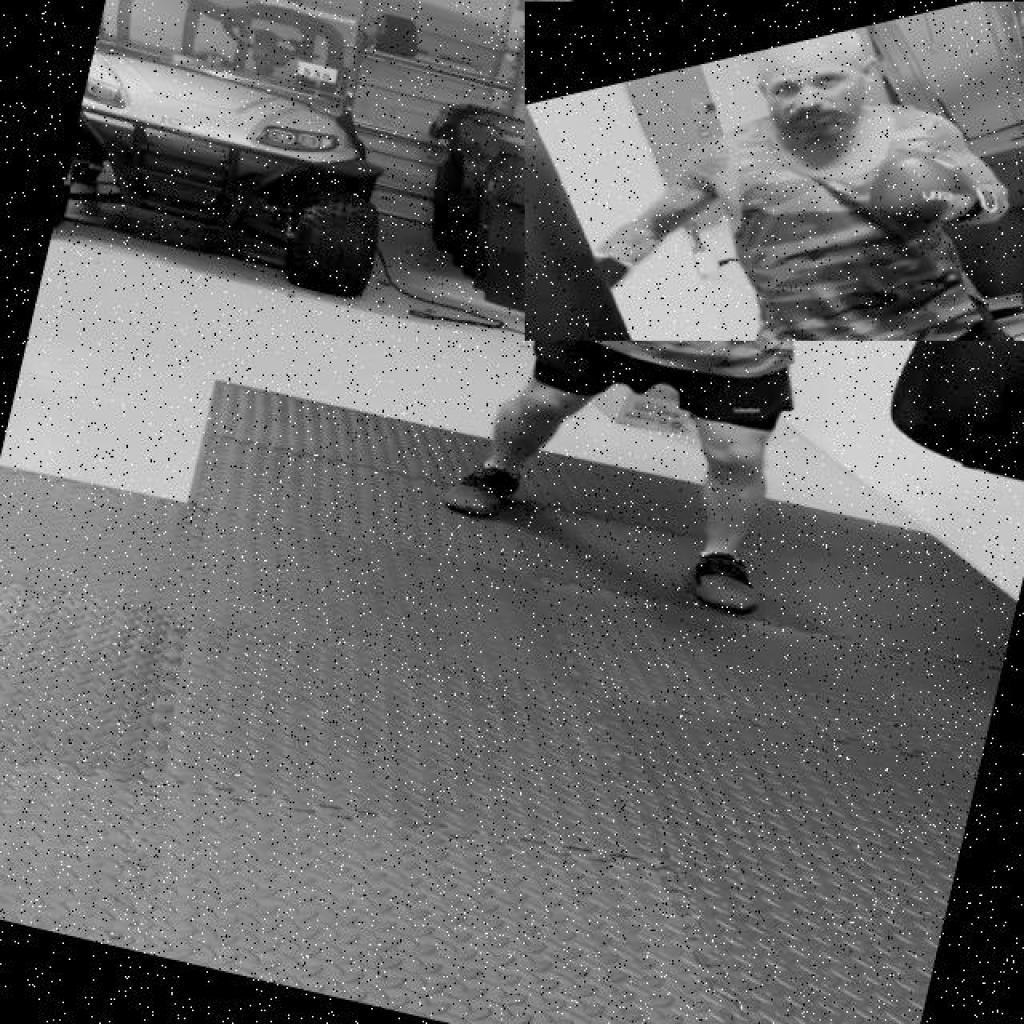bag: (918, 101, 1024, 517)
hook: (525, 2, 1023, 340)
